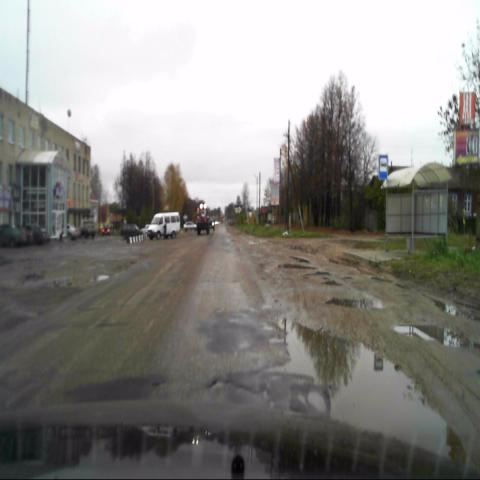5_16: (379, 154, 388, 179)
